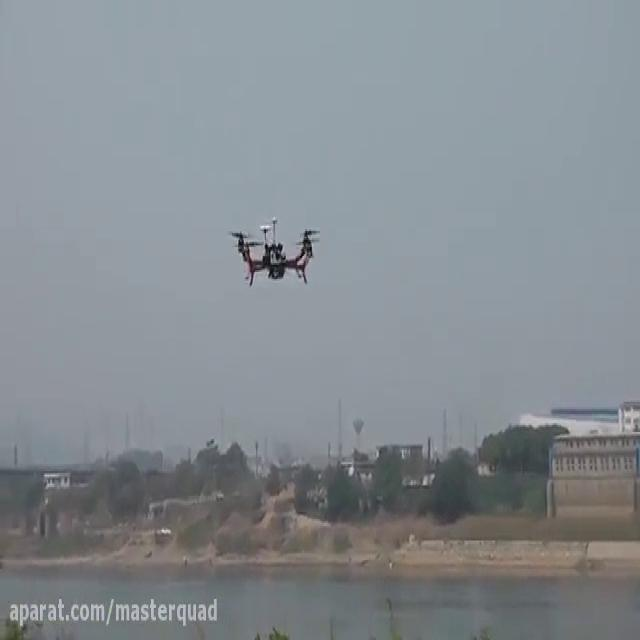drone: (222, 215, 322, 286)
